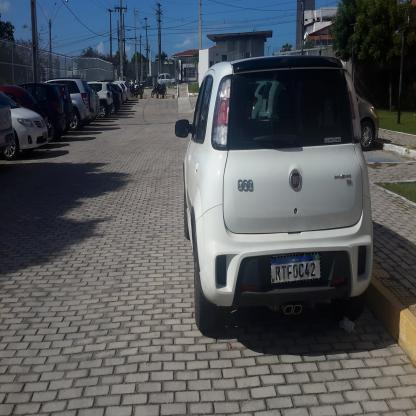PlacaM: (270, 252, 321, 285)
